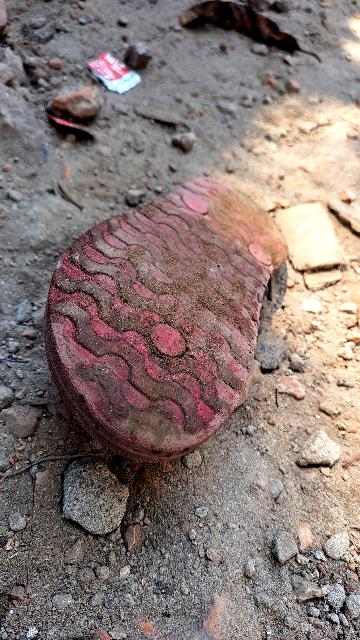sandal: (32, 150, 360, 483)
